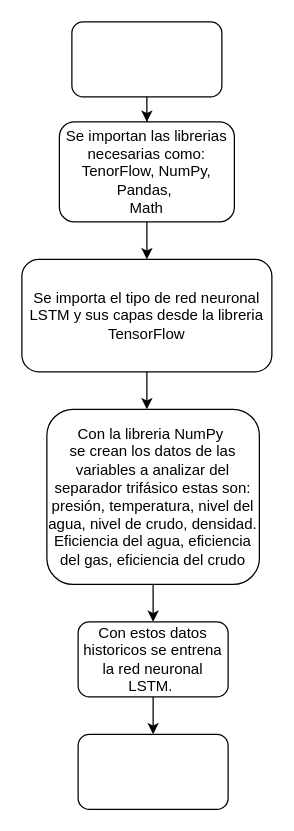
Some shapes in this 294 by 831 pixel diagram are drawn without their labels. Each missing label, with the box of its shape:
Diagrama del funcionamiento del código: (71, 21, 222, 97)
Se grafican los datos para ser analizados: (77, 733, 228, 809)
